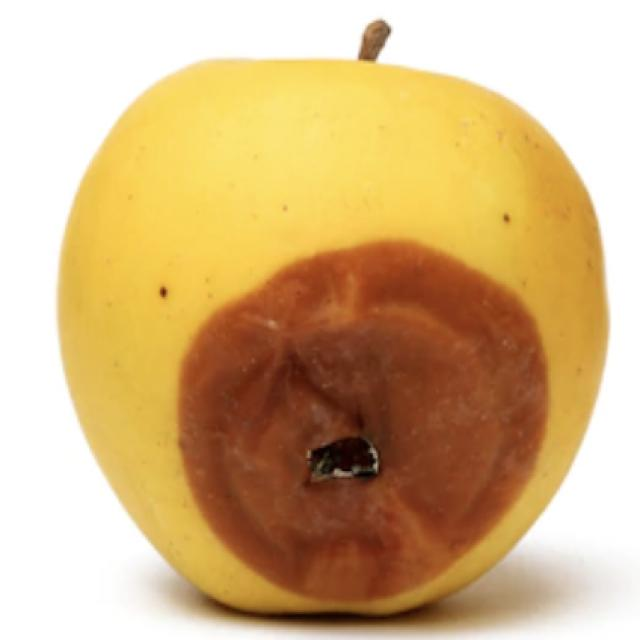rotten_apple: (56, 26, 614, 614)
